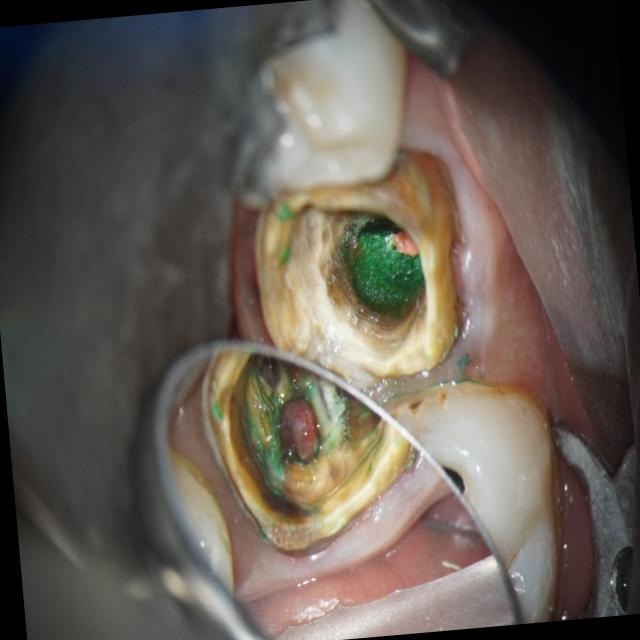Cavity: (283, 201, 429, 374)
Tooth: (253, 150, 460, 387)
